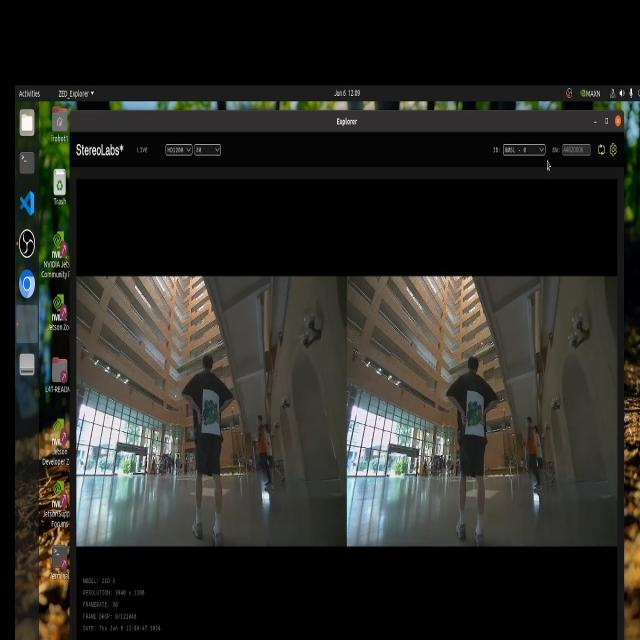green: (201, 395, 220, 434), (466, 404, 486, 424)
